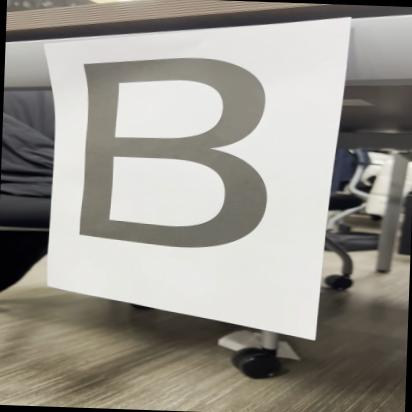seat: (50, 47, 315, 263)
